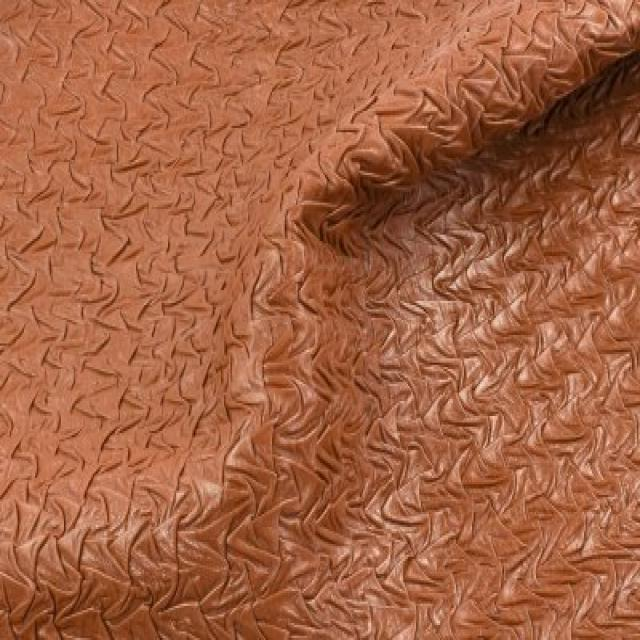Crease: (31, 444, 276, 604), (356, 28, 576, 195), (235, 186, 348, 428)
